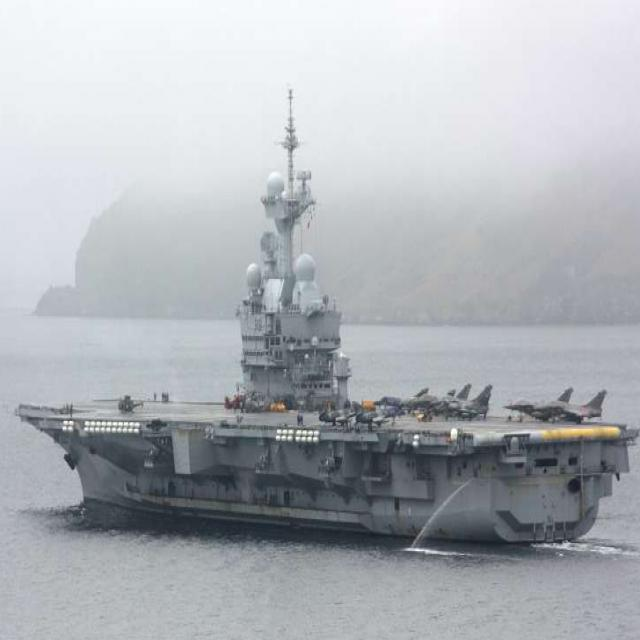Portanaves: (12, 74, 640, 549)
